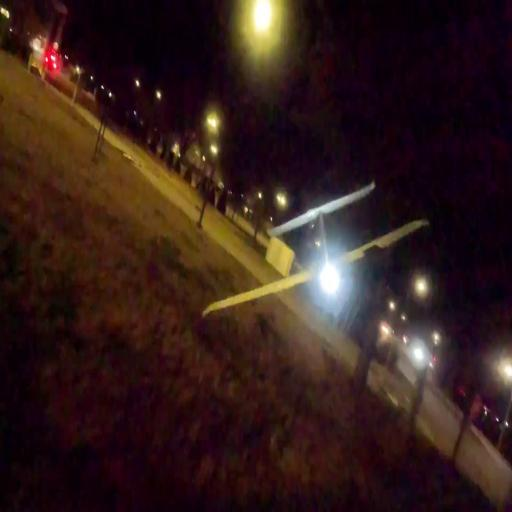uav: (199, 171, 433, 328)
